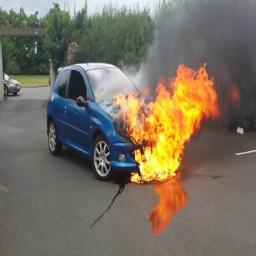fire: (114, 64, 220, 182)
